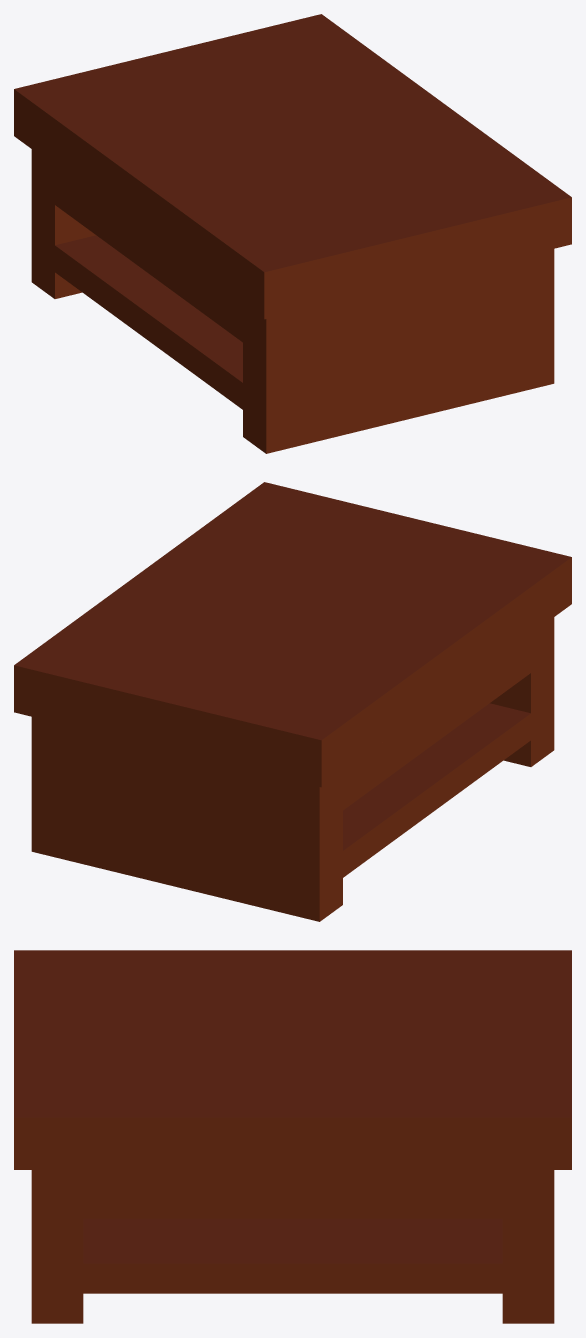
File: Compartmental_Coffee_Table.FBX
The picture shows the model from 3 angles, top to bottom: view 1: azimuth 30°, elevation 25°; view 2: azimuth 150°, elevation 25°; view 3: azimuth 270°, elevation 25°; orthographic projection. The views are drawn at different scales.
Parts seen in each view (by area): view 1: coffee table; view 2: coffee table; view 3: coffee table.
Boxes of the visible parts, x1,y1,x2,y2 form: coffee table: (14,14,571,453); coffee table: (14,482,571,921); coffee table: (14,950,571,1323).
Bounding box in the file's own units: 0.78 × 0.46 × 1.1.
